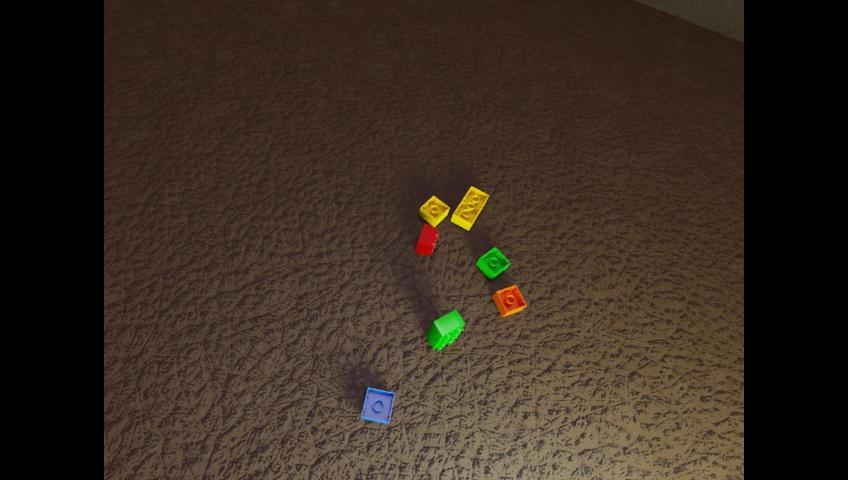2x2_blue: (361, 387, 394, 423)
2x2_green: (477, 248, 510, 280)
2x2_orange: (492, 284, 527, 318)
2x2_red: (415, 223, 438, 255)
2x2_yellow: (419, 195, 449, 227)
4x2_green: (426, 309, 465, 351)
4x2_yellow: (451, 185, 489, 231)
